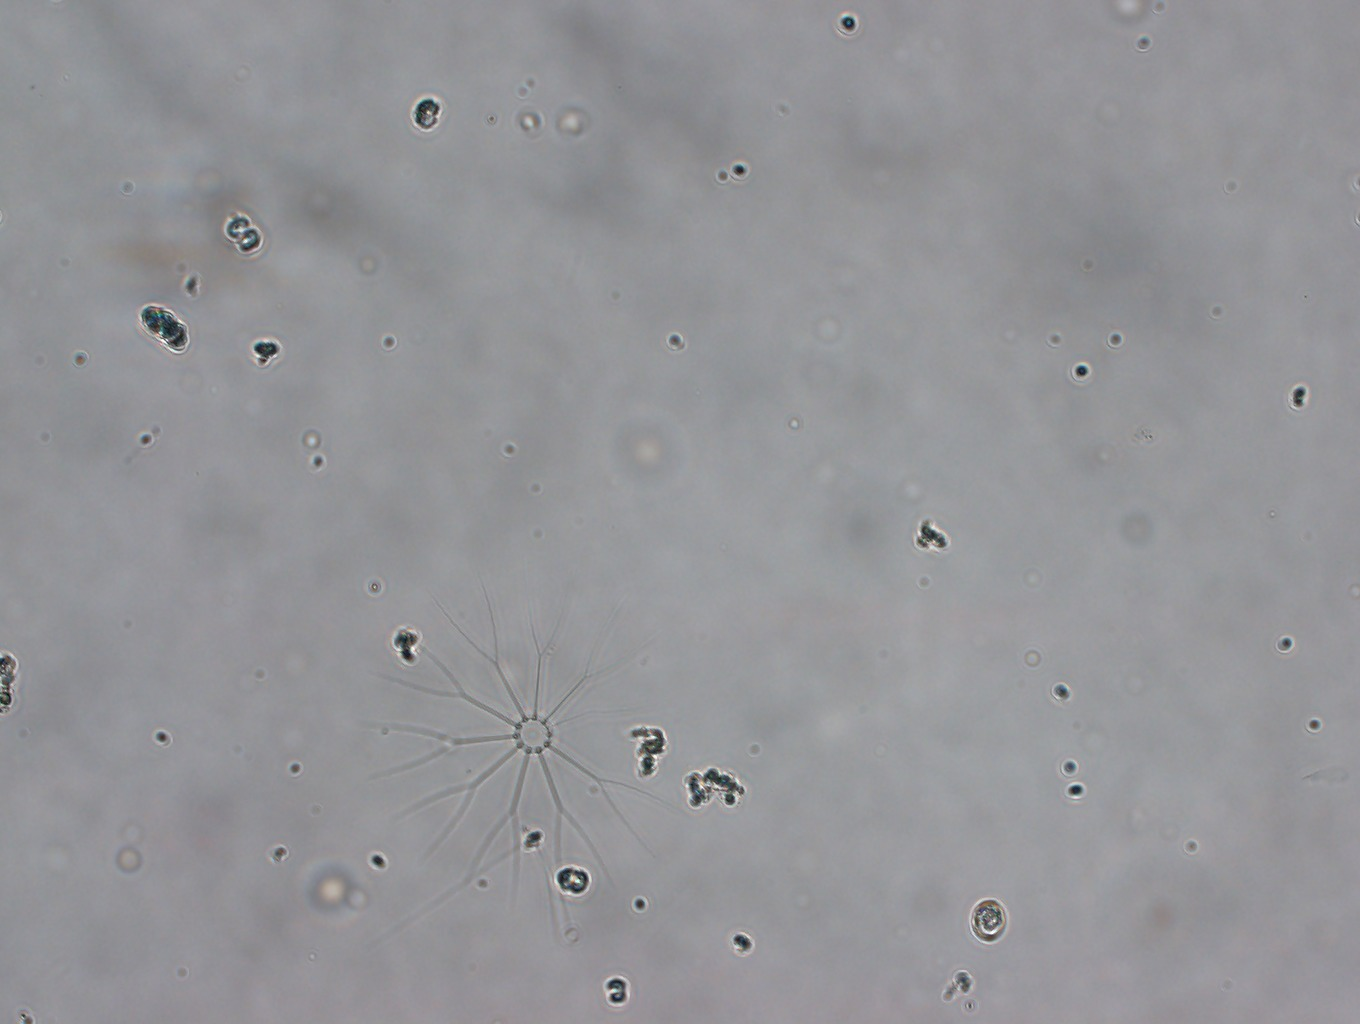bacteriastrum: (366, 582, 684, 934)
